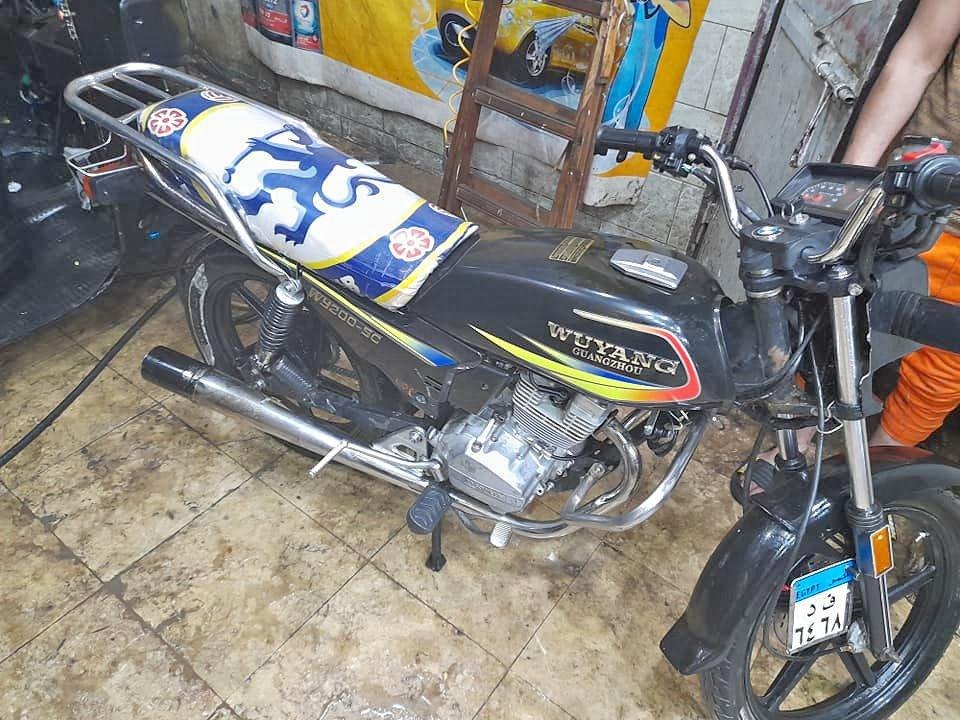License Plate: (788, 558, 858, 652)
